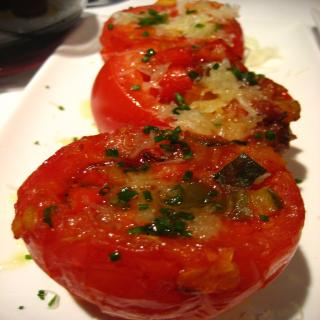tomato: (9, 126, 310, 320), (91, 44, 304, 143), (99, 0, 250, 60)
